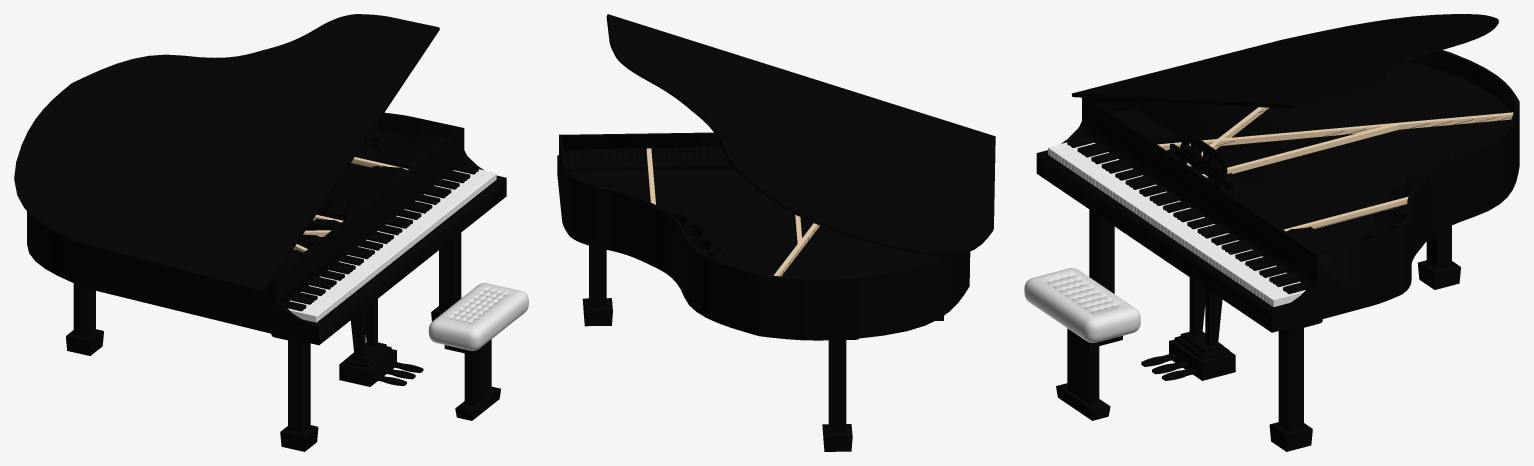
Rendered from piano.fbx.
3 renders of one model, left to right at view 1: azimuth 30°, elevation 25°; view 2: azimuth 150°, elevation 25°; view 3: azimuth 270°, elevation 25°, orthographic. The views are drawn at different scales.
Parts seen in each view (by area): view 1: BabyGrandPiano1; view 2: BabyGrandPiano1; view 3: BabyGrandPiano1.
Part boxes in pixels (<box>): BabyGrandPiano1: <box>14,14,528,451</box>; BabyGrandPiano1: <box>557,14,995,451</box>; BabyGrandPiano1: <box>1024,14,1519,451</box>.
Size of the model in its own units: 656 by 428 by 577.
